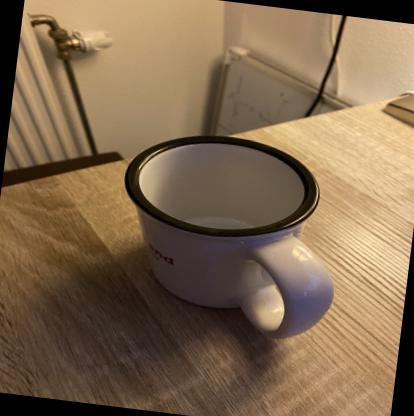Cup: (102, 118, 360, 350)
